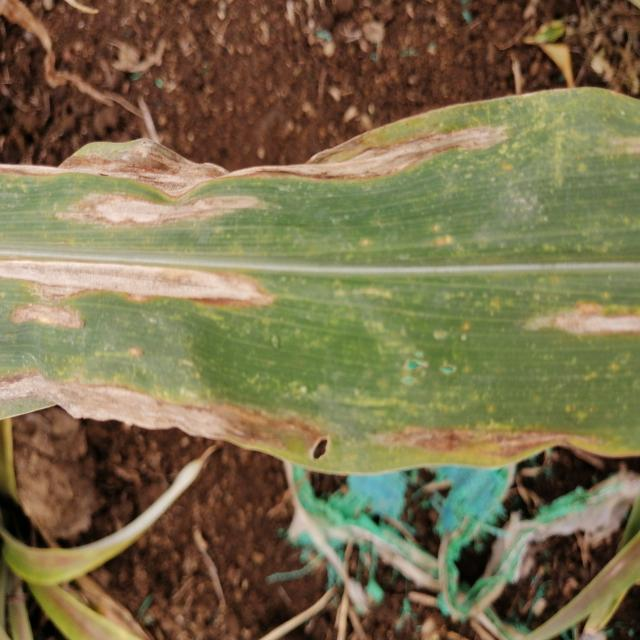Corn_Leaf_Blight: (0, 75, 640, 465)
